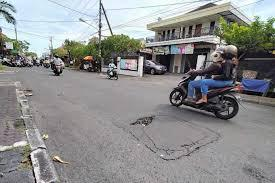Pothole: (123, 113, 165, 132)
